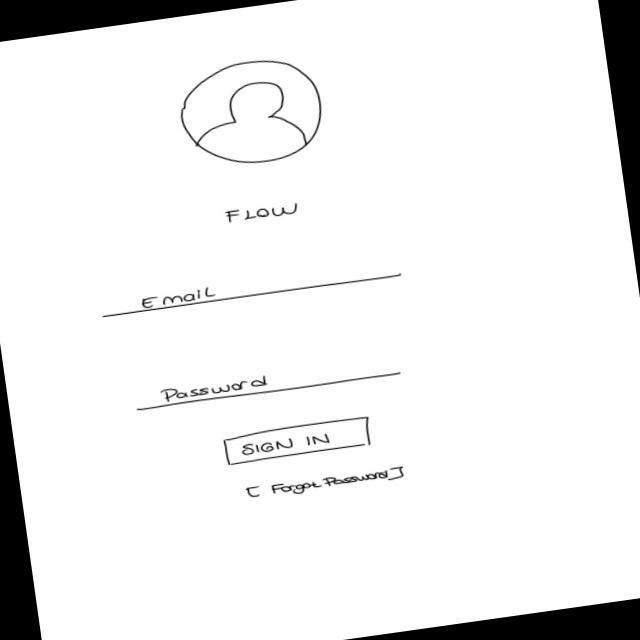button: (221, 415, 376, 470)
image: (175, 53, 332, 176)
input: (100, 260, 405, 322), (135, 355, 404, 414)
label: (224, 200, 305, 227)
link: (244, 465, 409, 504)
